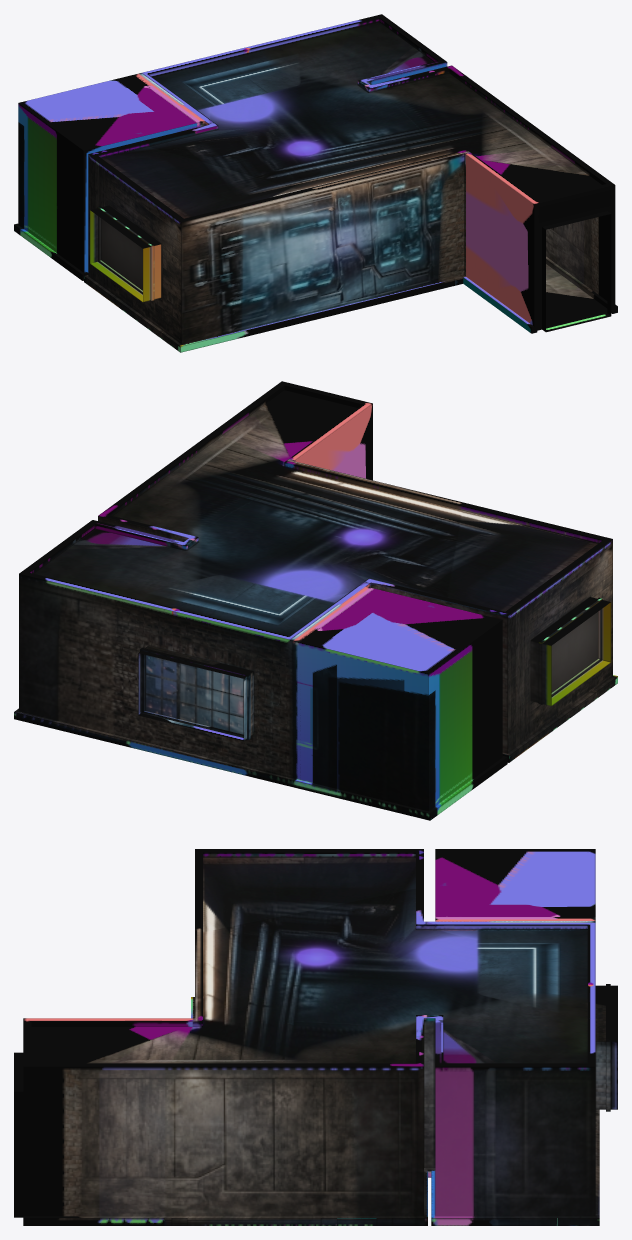
Rendered from roombake_1788691380163.glb.
3 renders of one model, top to bottom at view 1: azimuth 30°, elevation 25°; view 2: azimuth 150°, elevation 25°; view 3: azimuth 270°, elevation 25°, orthographic. The views are drawn at different scales.
Parts seen in each view (by area): view 1: roombake_1788690952458.glb; view 2: roombake_1788690952458.glb; view 3: roombake_1788690952458.glb.
Part boxes in pixels (<box>): roombake_1788690952458.glb: <box>14,14,617,352</box>; roombake_1788690952458.glb: <box>14,381,617,820</box>; roombake_1788690952458.glb: <box>14,849,617,1225</box>.
Size of the model in its own units: 7.96 by 2.54 by 8.82.
Materials: 1 (1 with a texture image).
